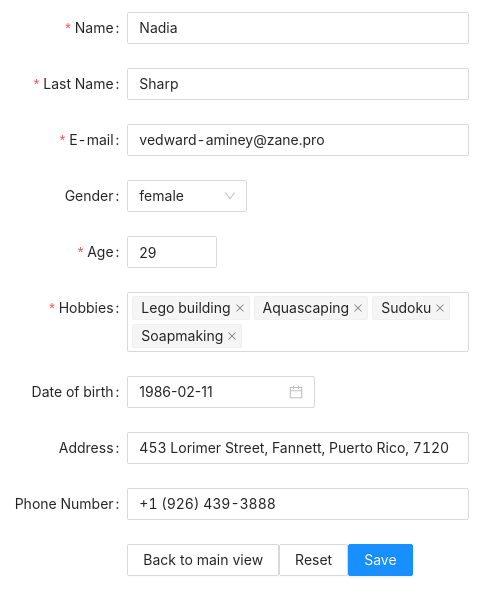
Test: User Form Tests › Reset button test
Replace the text in the field labelled "Name" with "Anna": (298, 28) x1=127 y1=12 x2=468 y2=44
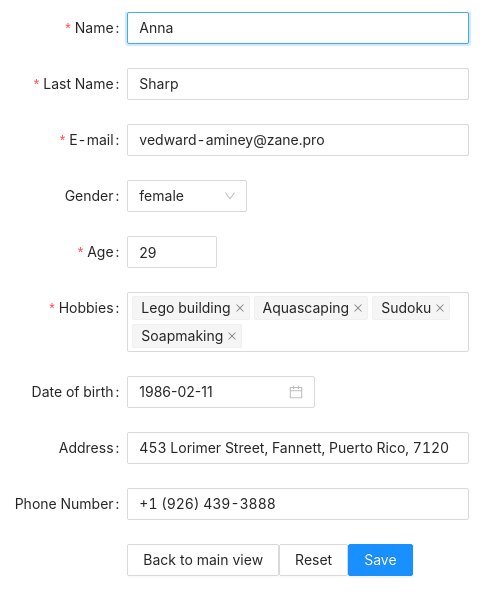
Replace the text in the field labelled "Last Name" with "Johnson": (298, 84) x1=127 y1=68 x2=468 y2=100
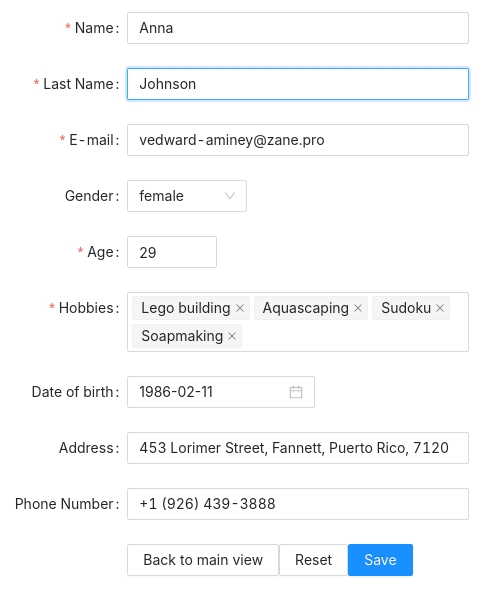
Replace the text in the field labelled "E-mail" with "anna.johnson@gmail.com": (298, 140) x1=127 y1=124 x2=468 y2=156
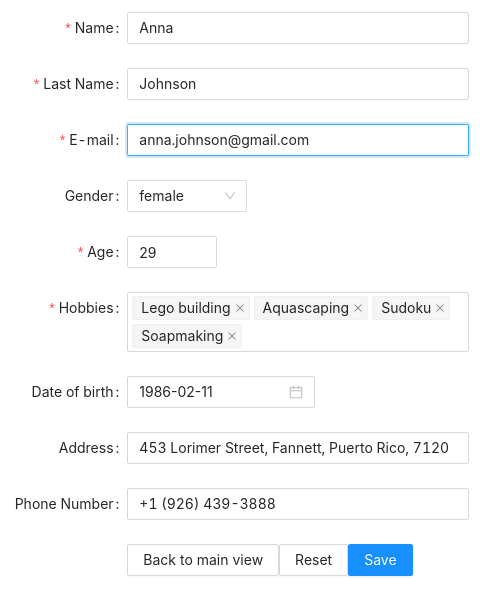
Click the element showing "female": (187, 196) x1=127 y1=180 x2=247 y2=212
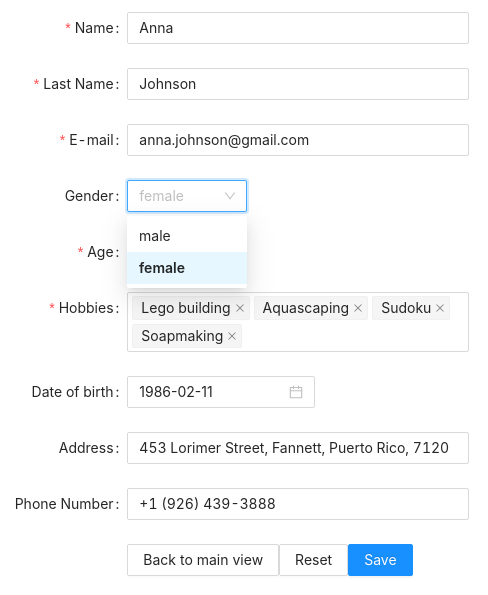
Click the text "male": (155, 236) x1=139 y1=227 x2=171 y2=244
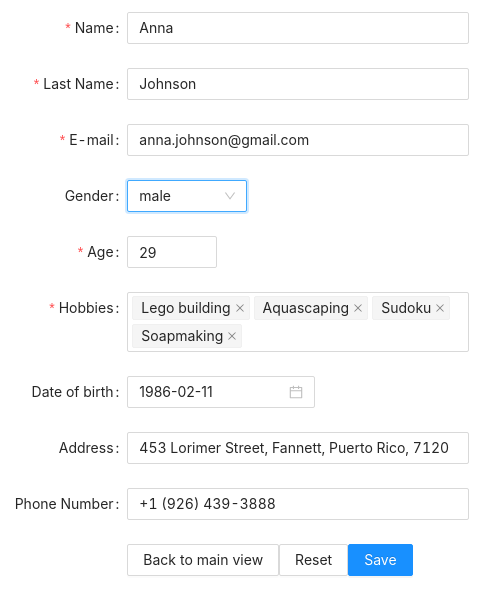
Now the text "male" is shown, box x1=139 y1=181 x2=235 y2=211
Click the button "Reset": (314, 560) x1=279 y1=544 x2=348 y2=576
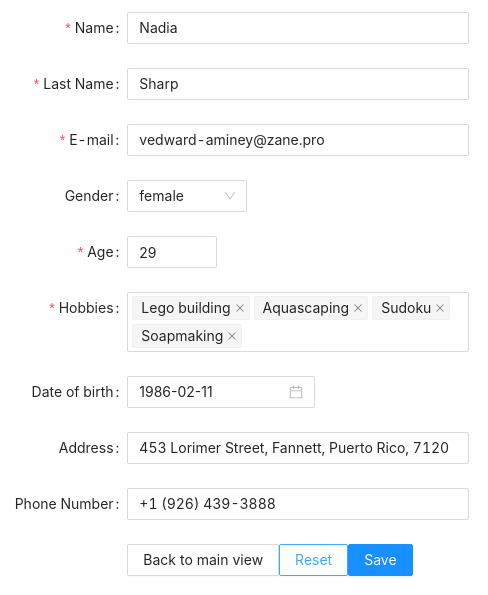
Now the field labelled "Name" holds "Nadia", box x1=127 y1=12 x2=468 y2=44
Now the field labelled "Last Name" holds "Sharp", box x1=127 y1=68 x2=468 y2=100
Now the field labelled "E-mail" holds "vedward-aminey@zane.pro", box x1=127 y1=124 x2=468 y2=156
